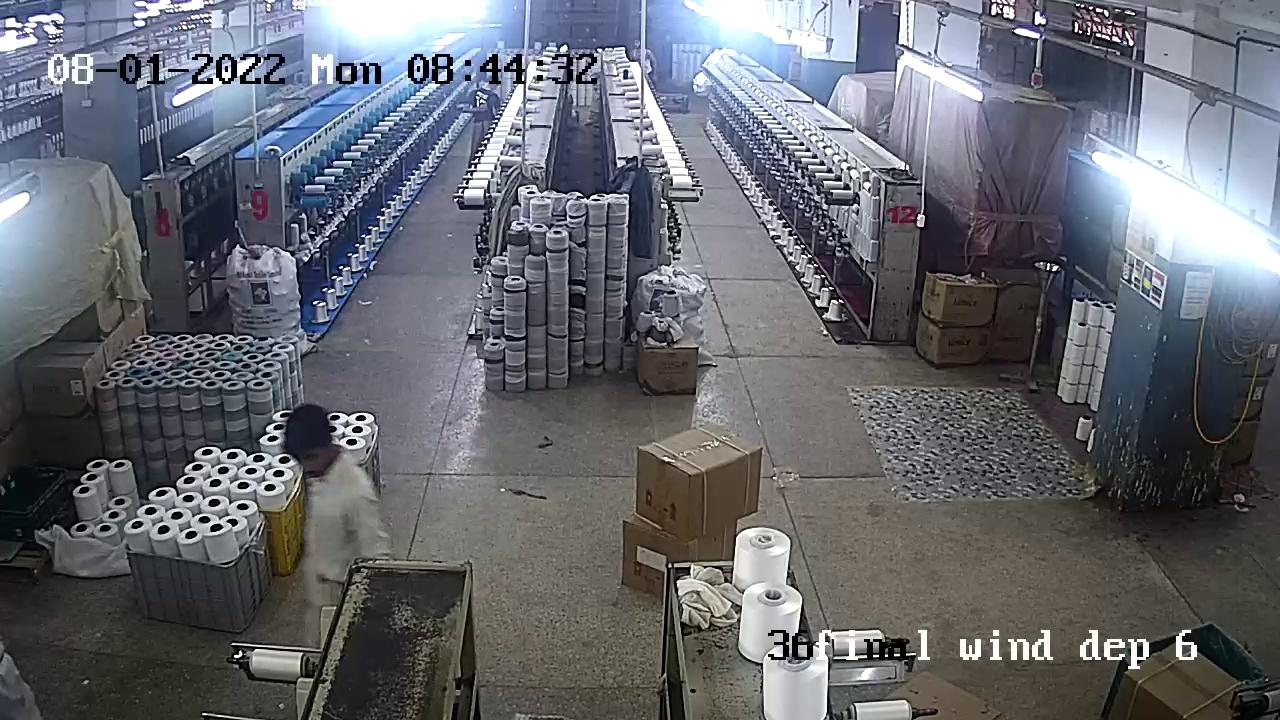person: (291, 403, 387, 560), (466, 85, 499, 143)
